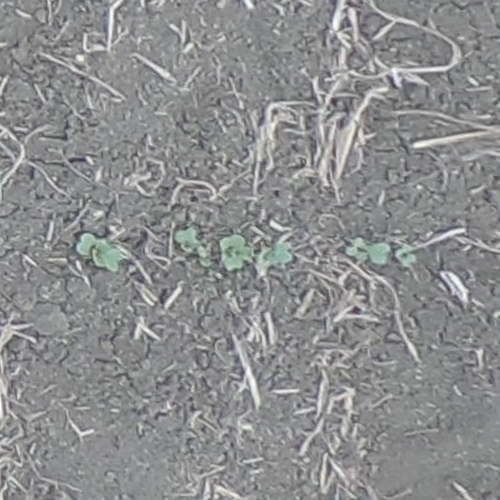isolated: (75, 231, 124, 271), (219, 231, 255, 273), (348, 238, 392, 269), (175, 225, 209, 260), (269, 242, 294, 266), (395, 245, 419, 268)
